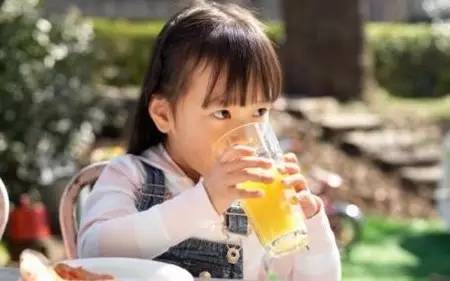face: (184, 52, 272, 180)
